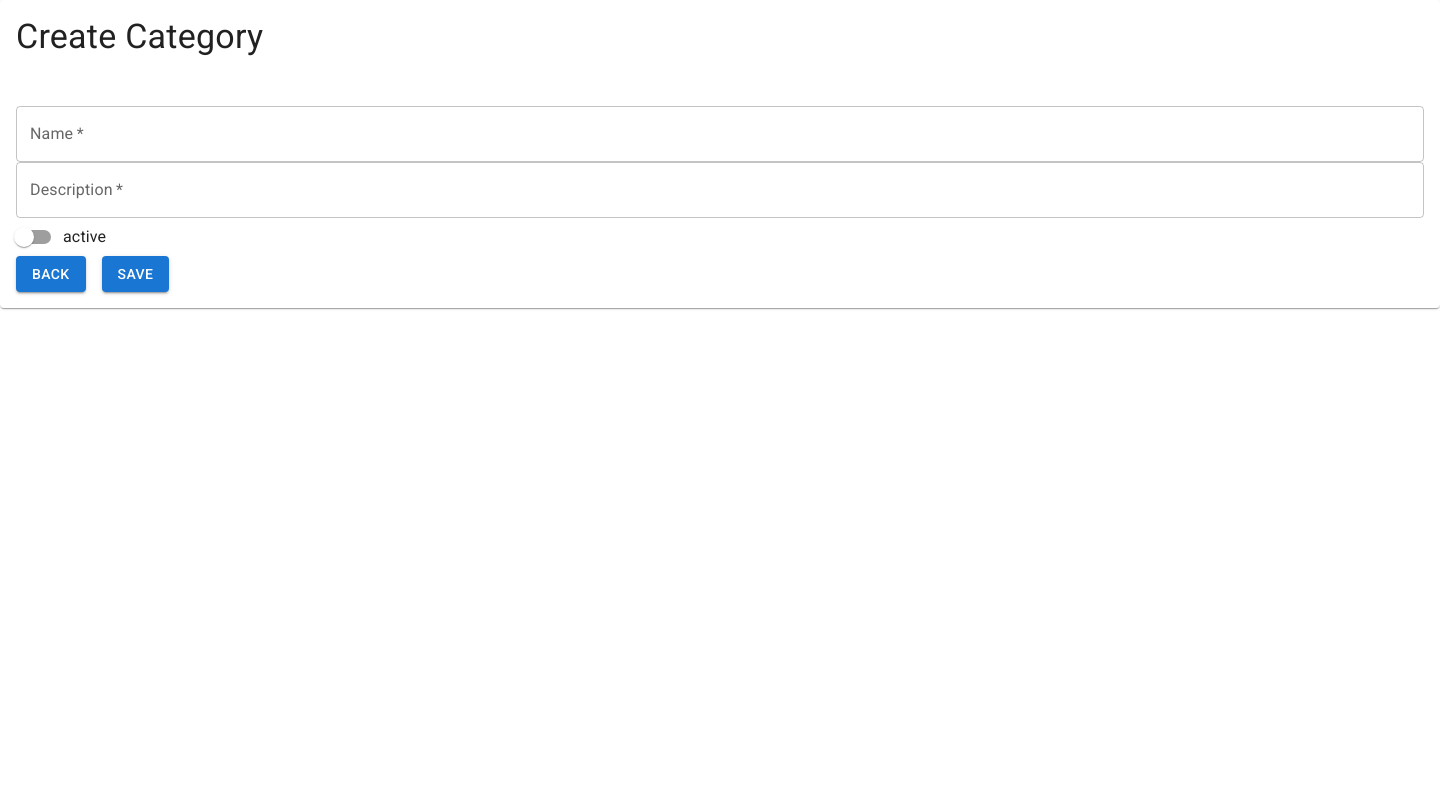
Test: CategoryCreate › should show error message
The width and height of the screenshot is (1440, 810).
In the field labelled "Name *": (720, 134) [16, 106, 1424, 162], type "Test"
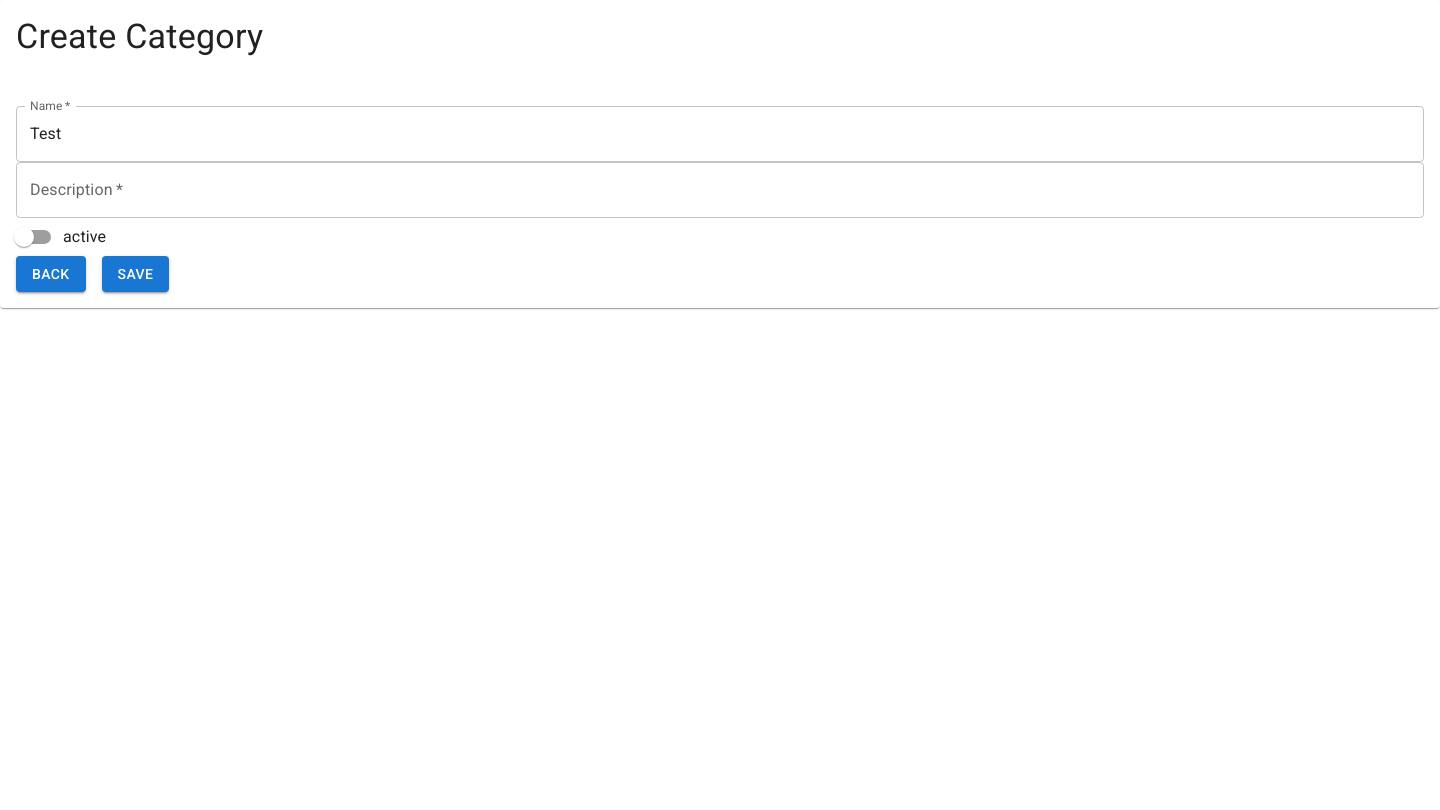
In the field labelled "Description *": (720, 190) [16, 162, 1424, 218], type "Test description"
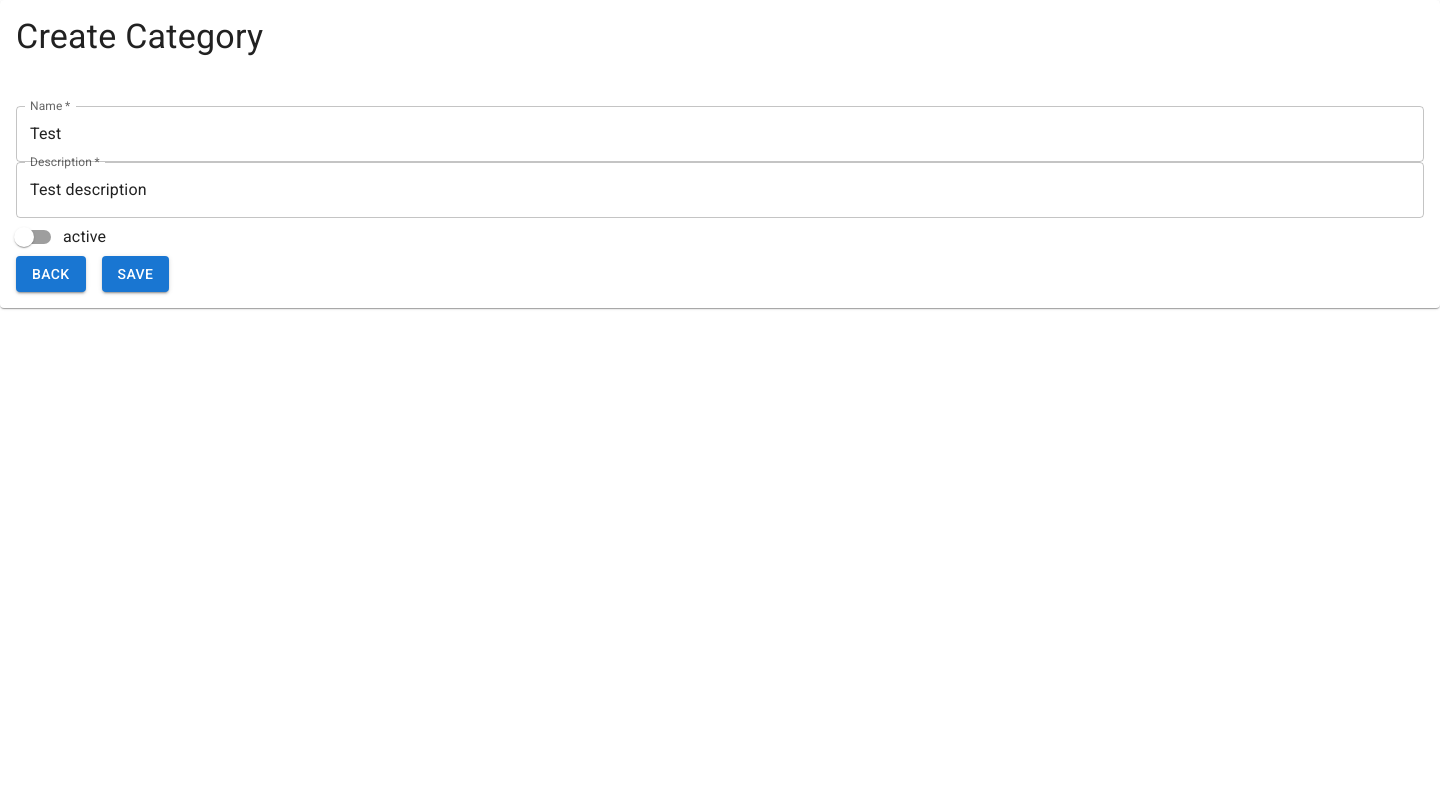
Click the button "Save": (136, 274) [102, 256, 169, 292]
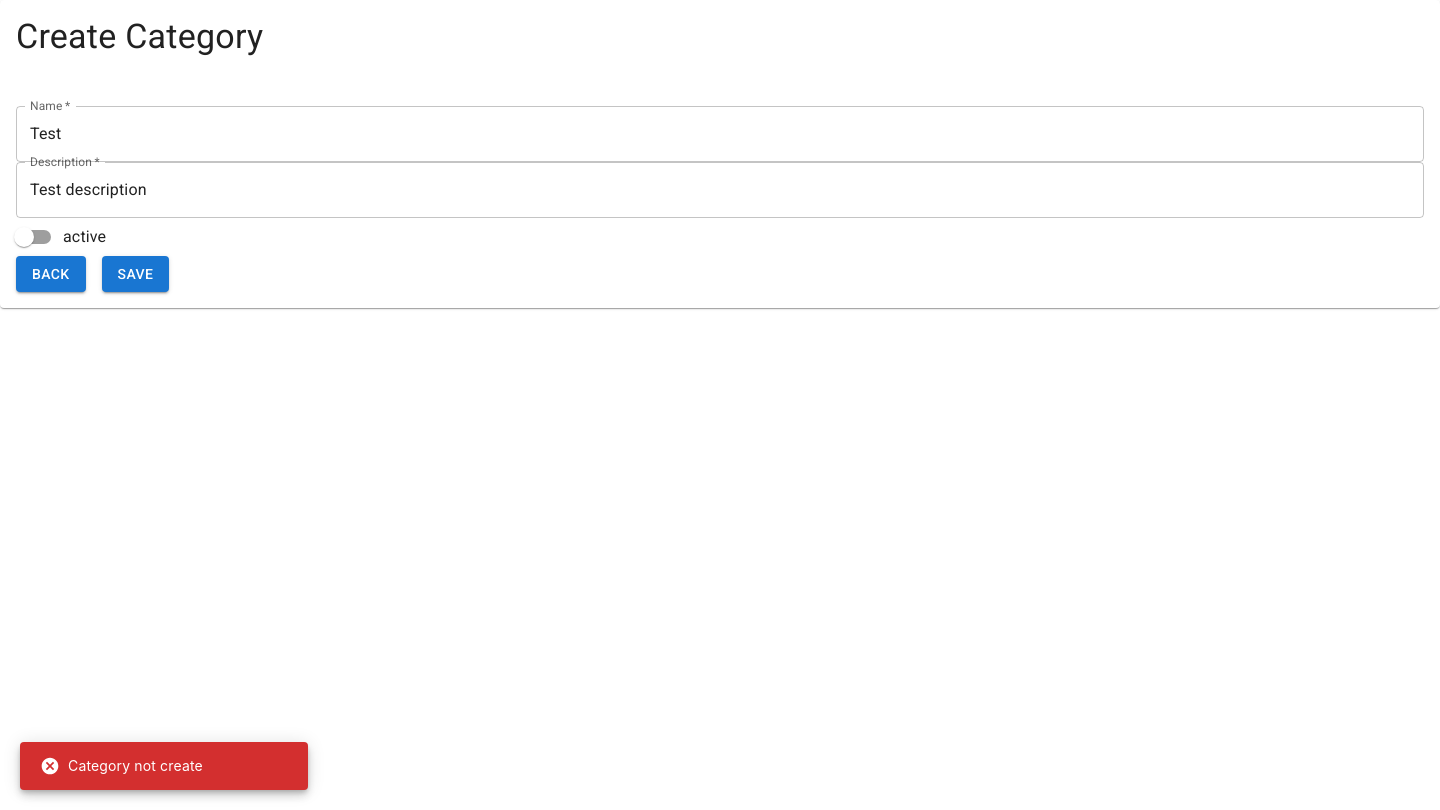
Now the text "Category not create" is shown, box [40, 756, 203, 776]
